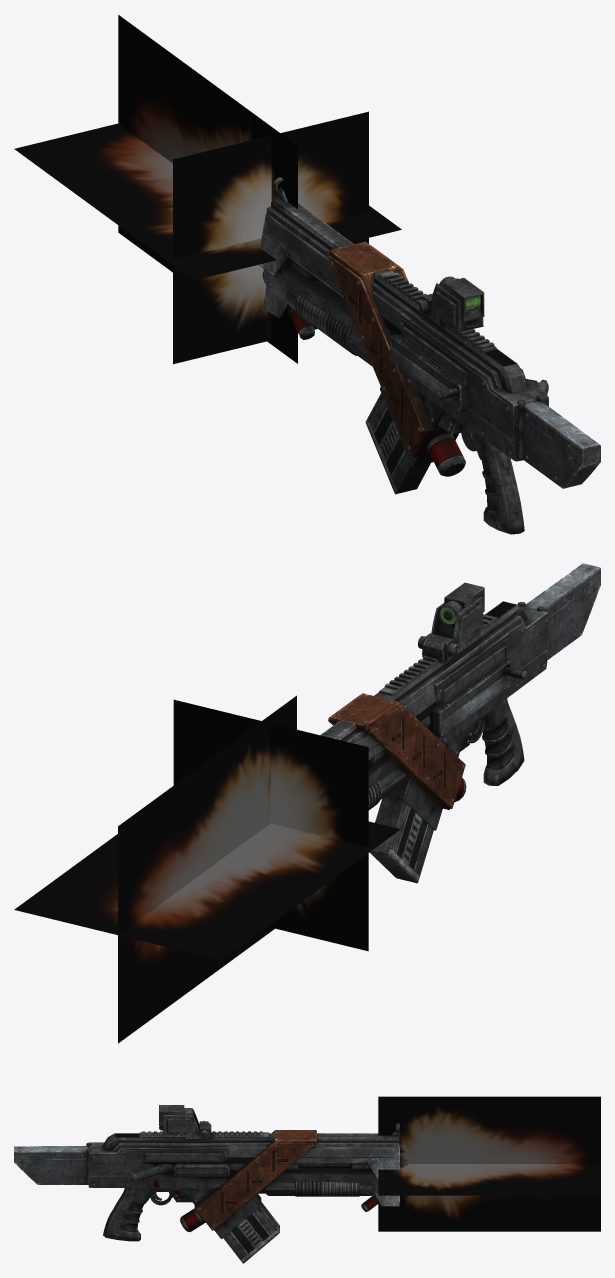
The model's file is Soldier_Gun.DAE.
3 renders of one model, top to bottom at view 1: azimuth 30°, elevation 25°; view 2: azimuth 150°, elevation 25°; view 3: azimuth 270°, elevation 25°, orthographic. The views are drawn at different scales.
Parts seen in each view (by area): view 1: flashA1, Gun_Final1; view 2: flashA1, Gun_Final1; view 3: flashA1, Gun_Final1.
Boxes of the visible parts, box(x1,y1,x2,y2) form: flashA1: box(14, 15, 401, 364); Gun_Final1: box(259, 177, 600, 534); flashA1: box(14, 695, 400, 1043); Gun_Final1: box(320, 563, 600, 883); flashA1: box(378, 1096, 600, 1231); Gun_Final1: box(14, 1105, 407, 1263).
Size of the model in its own units: 0.4308 by 1.7 by 0.5246.
Materials: 3 (3 with a texture image).
